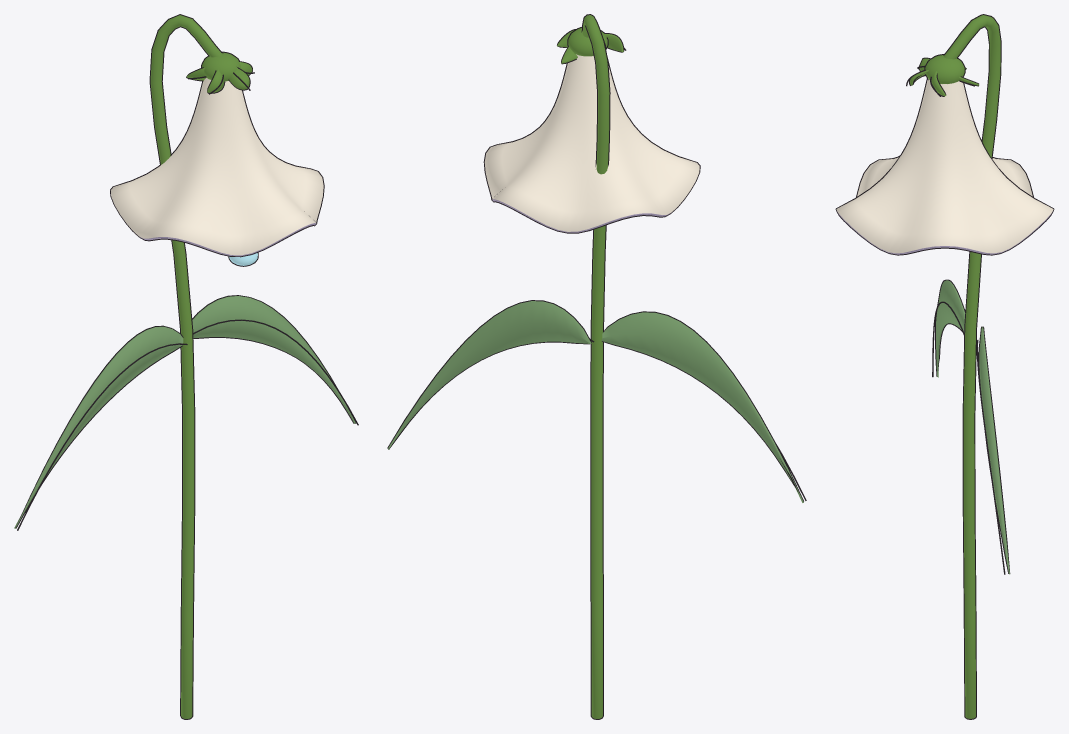
The model's file is pleurelune_ivory.glb.
The picture shows the model from 3 angles, left to right: view 1: azimuth 30°, elevation 25°; view 2: azimuth 150°, elevation 25°; view 3: azimuth 270°, elevation 25°; orthographic projection.
Visible parts, largest first — view 1: pleurelune_Geometry; view 2: pleurelune_Geometry; view 3: pleurelune_Geometry.
Part boxes in pixels (left/top/right/bottom): pleurelune_Geometry: left=14, top=14, right=358, bottom=719; pleurelune_Geometry: left=387, top=14, right=806, bottom=719; pleurelune_Geometry: left=835, top=14, right=1054, bottom=719.
Bounding box in the file's own units: 0.3072 × 0.5439 × 0.1534.
